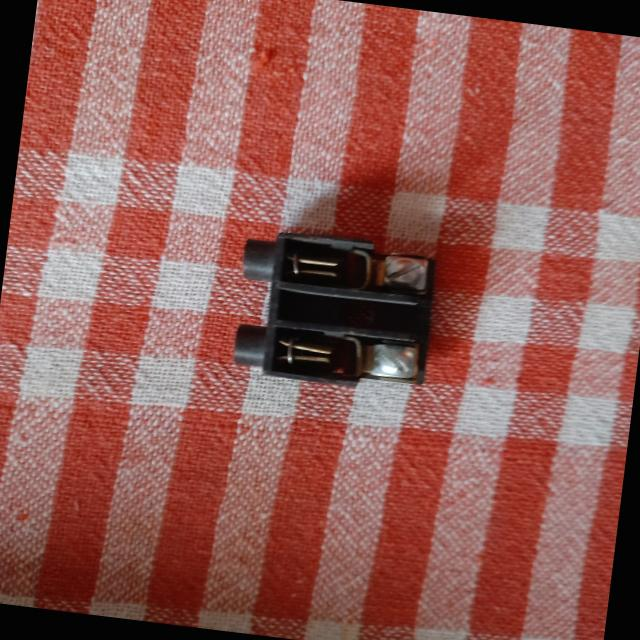Slotted: (371, 345, 417, 378), (382, 255, 427, 288)
